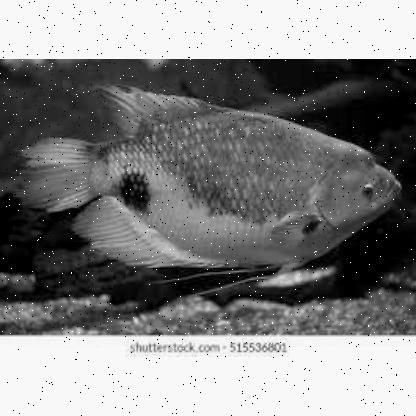gurame: (25, 96, 415, 280)
